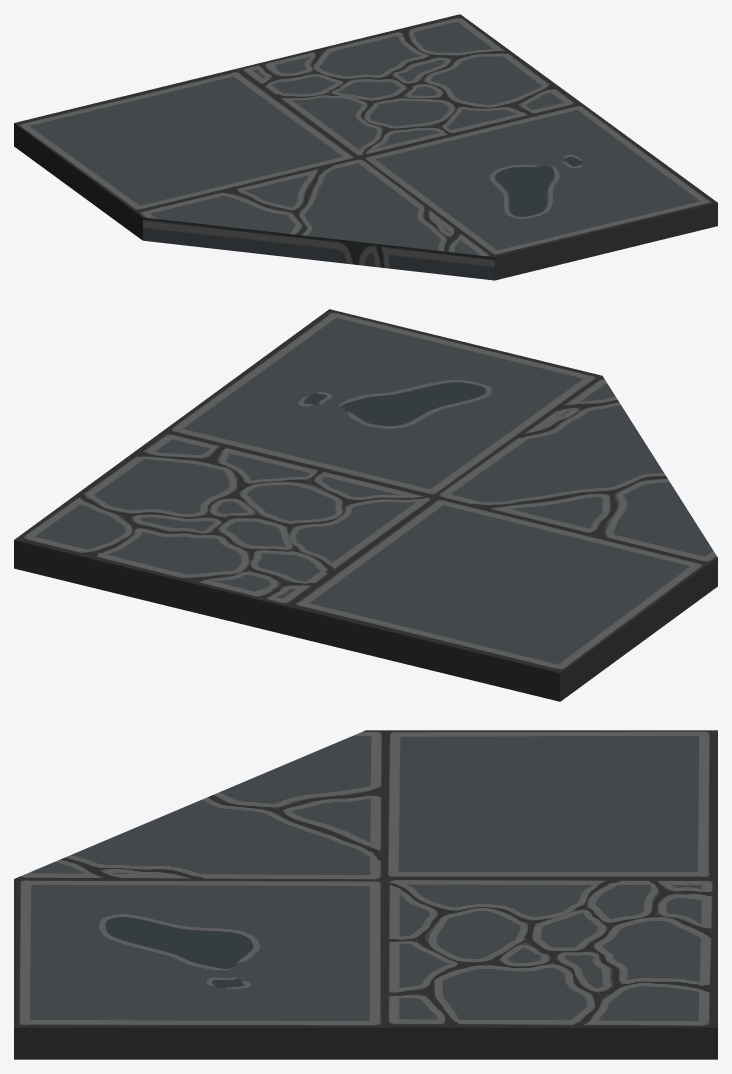
File: FloorTile-LCURVE-NE_v1.3.fbx
3 renders of one model, top to bottom at view 1: azimuth 30°, elevation 25°; view 2: azimuth 150°, elevation 25°; view 3: azimuth 270°, elevation 25°, orthographic. The views are drawn at different scales.
Parts seen in each view (by area): view 1: Tile_Main.060; view 2: Tile_Main.060; view 3: Tile_Main.060.
Boxes of the visible parts, left/top/right/bottom form: Tile_Main.060: left=14, top=14, right=717, bottom=280; Tile_Main.060: left=14, top=309, right=717, bottom=701; Tile_Main.060: left=14, top=730, right=717, bottom=1059.
Bounding box in the file's own units: 100 × 100 × 5.
